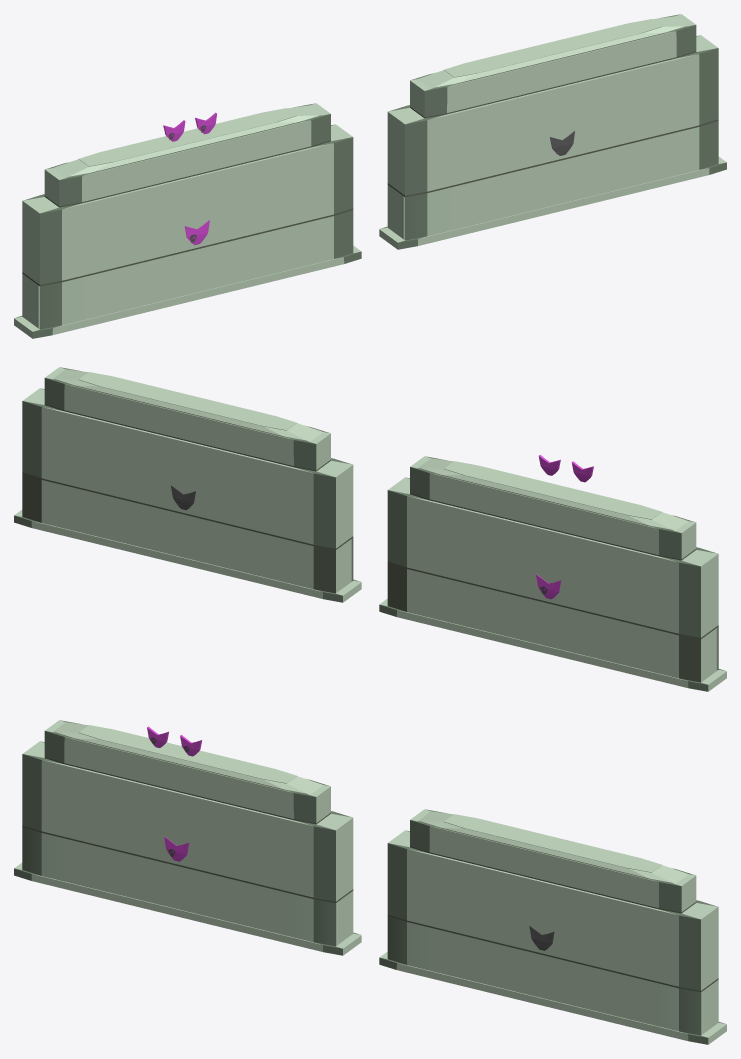
The model's file is Lock&Key.fbx.
The picture shows the model from 3 angles, top to bottom: view 1: azimuth 30°, elevation 25°; view 2: azimuth 150°, elevation 25°; view 3: azimuth 330°, elevation 25°; orthographic projection.
Visible parts, largest first — view 1: 立方体.001, 立方体.002; view 2: 立方体.002, 立方体.001; view 3: 立方体.001, 立方体.002.
Boxes of the visible parts, x1,y1,x2,y2 form: 立方体.001: (379, 14, 726, 249); 立方体.002: (14, 103, 361, 338); 立方体.002: (379, 456, 726, 691); 立方体.001: (14, 367, 361, 602); 立方体.001: (379, 809, 726, 1044); 立方体.002: (14, 720, 361, 955).
Size of the model in its own units: 10666 by 2643 by 569.
